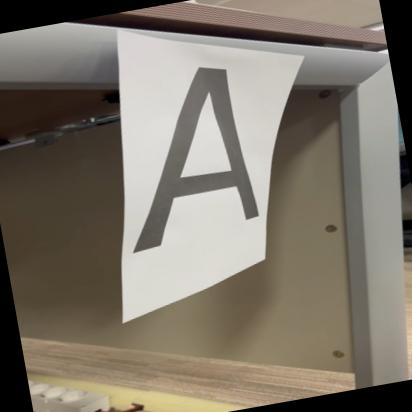seat: (100, 44, 300, 254)
